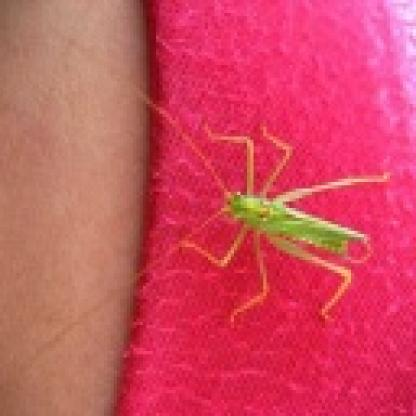grasshopper: (173, 120, 390, 334)
